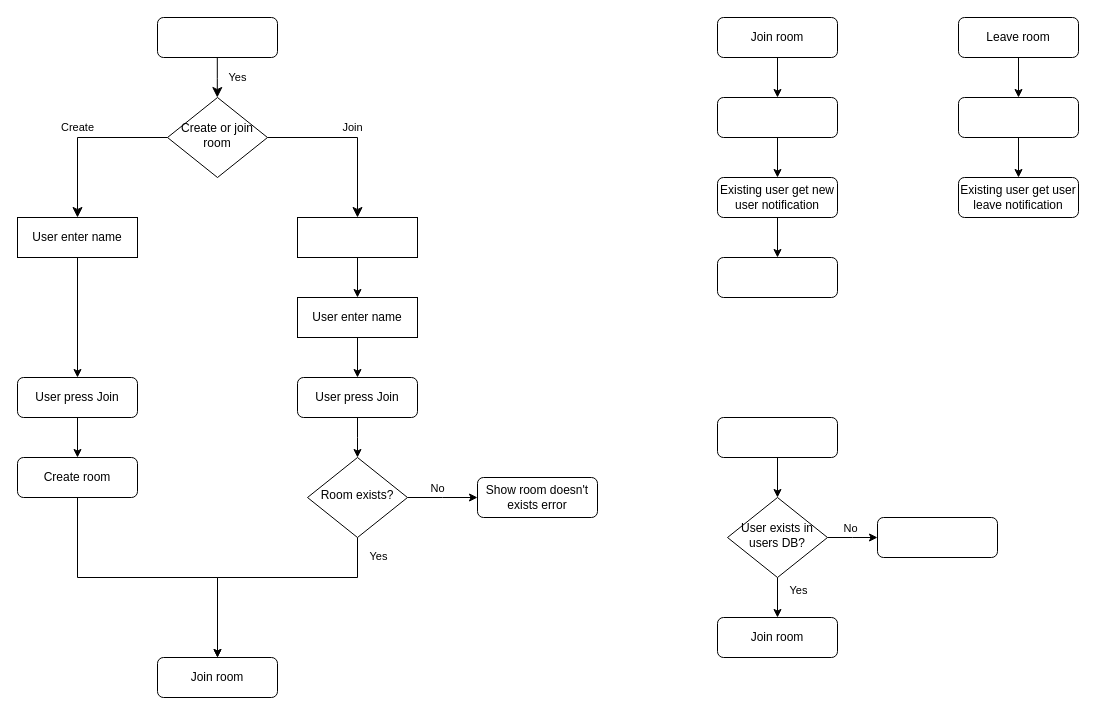
The diagram is 1096 pixels wide and 715 high, and some of its shapes have lost their labels. Here are the shapes that lost their labels. From the top down, the box of each, then its label:
(156, 16, 278, 58): User enter website occp.dulapahv.dev
(716, 96, 838, 138): New user get list of all users in room
(958, 96, 1078, 138): Disconnect user from room
(296, 216, 418, 258): User enter room ID
(716, 256, 838, 298): Existing user get list of all users in room
(716, 416, 838, 458): User join room from direct URL without providing name
(876, 516, 998, 558): Redirect to /
